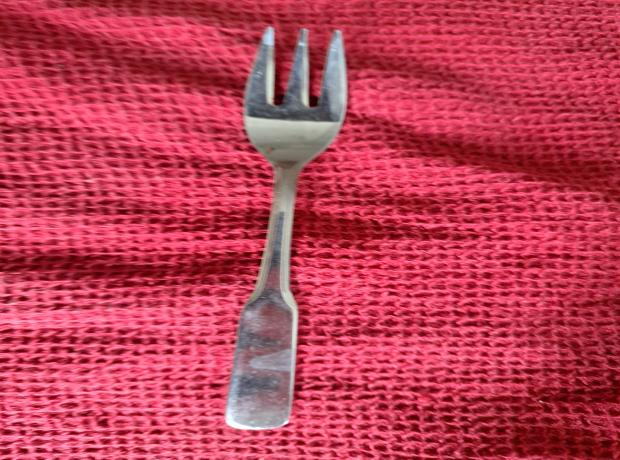metal: (222, 25, 355, 431)
